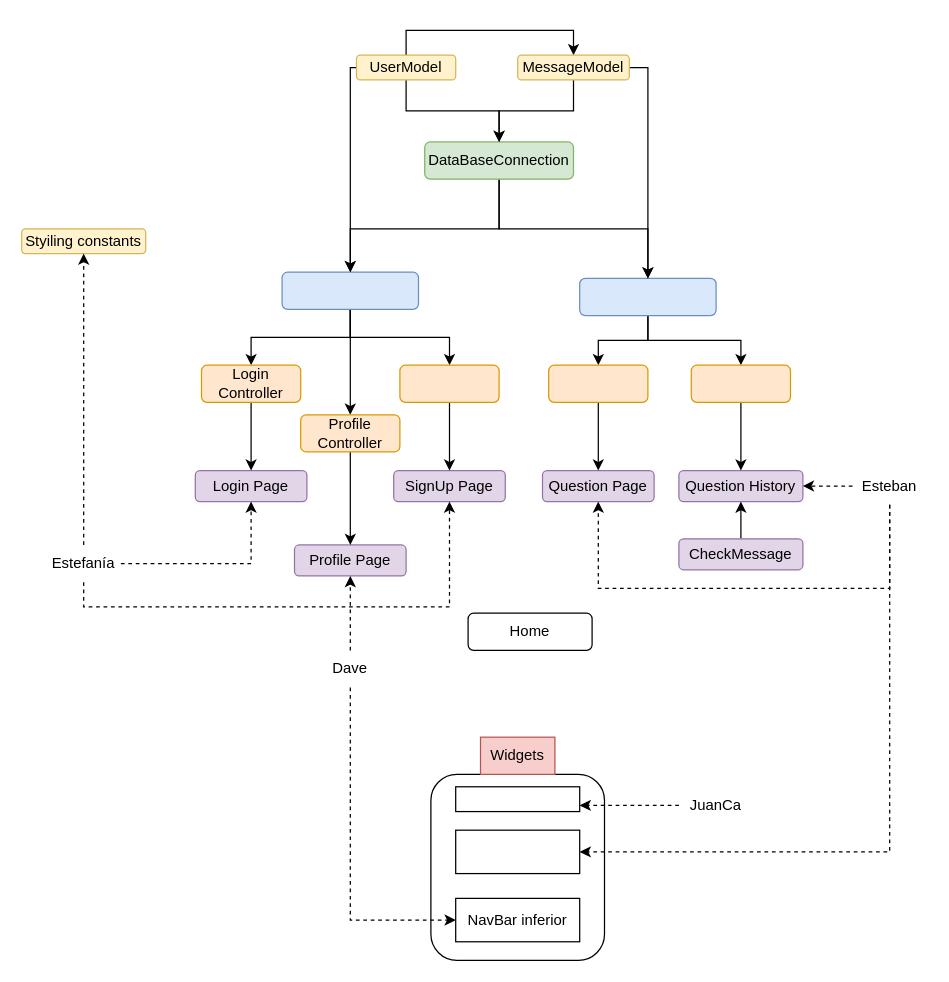
Some shapes in this 949 by 982 pixel diagram are drawn without their labels. The shapes that lost their labels are listed below. From the top down, each one's centre as x and y in pixels, then its label:
point 349,290: User Controller
point 647,296: Message Controller
point 449,383: SignUp Controller
point 597,383: Question Controller
point 740,383: History Controller
point 517,799: Comentario
point 517,851: Respuesta a Comentario
